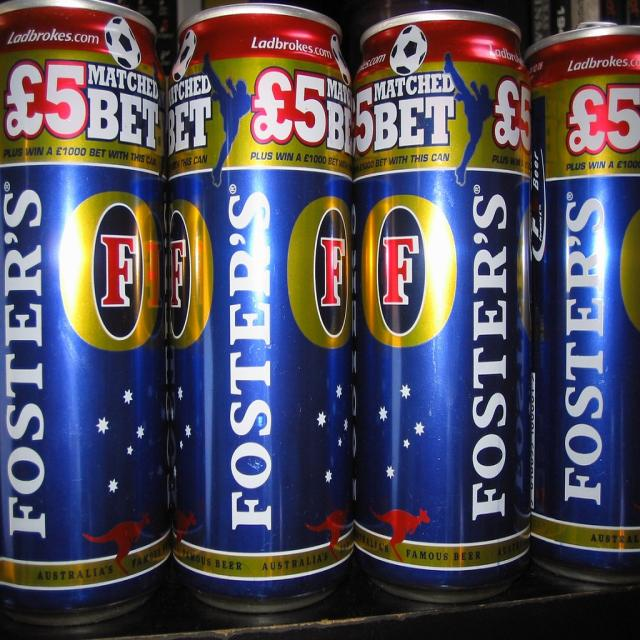fosters: (58, 187, 164, 357), (362, 192, 462, 354), (284, 194, 356, 355), (166, 197, 218, 354)
